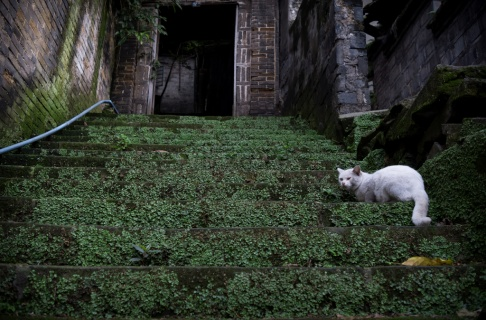Cat: (337, 163, 431, 226)
